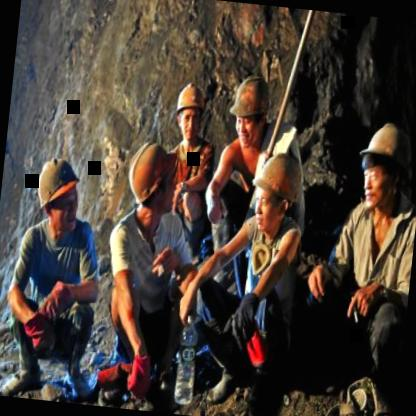helmet: (353, 111, 410, 221), (243, 148, 305, 238), (33, 157, 91, 242), (118, 138, 177, 220), (227, 70, 271, 149), (168, 78, 206, 146)
